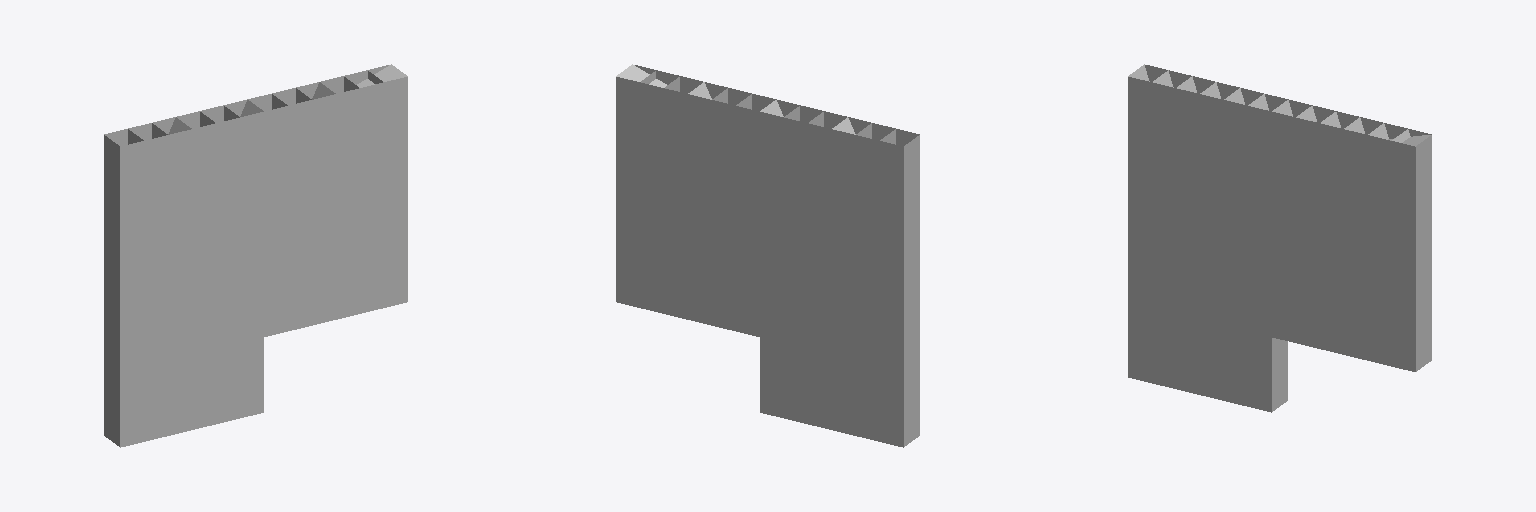
Rendered from 3d_Moonglade - Pool01.wlw.obj.
The picture shows the model from 3 angles: view 1: azimuth 30°, elevation 25°; view 2: azimuth 150°, elevation 25°; view 3: azimuth 330°, elevation 25°; orthographic projection.
Size of the model in its own units: 100 by 100 by 10.